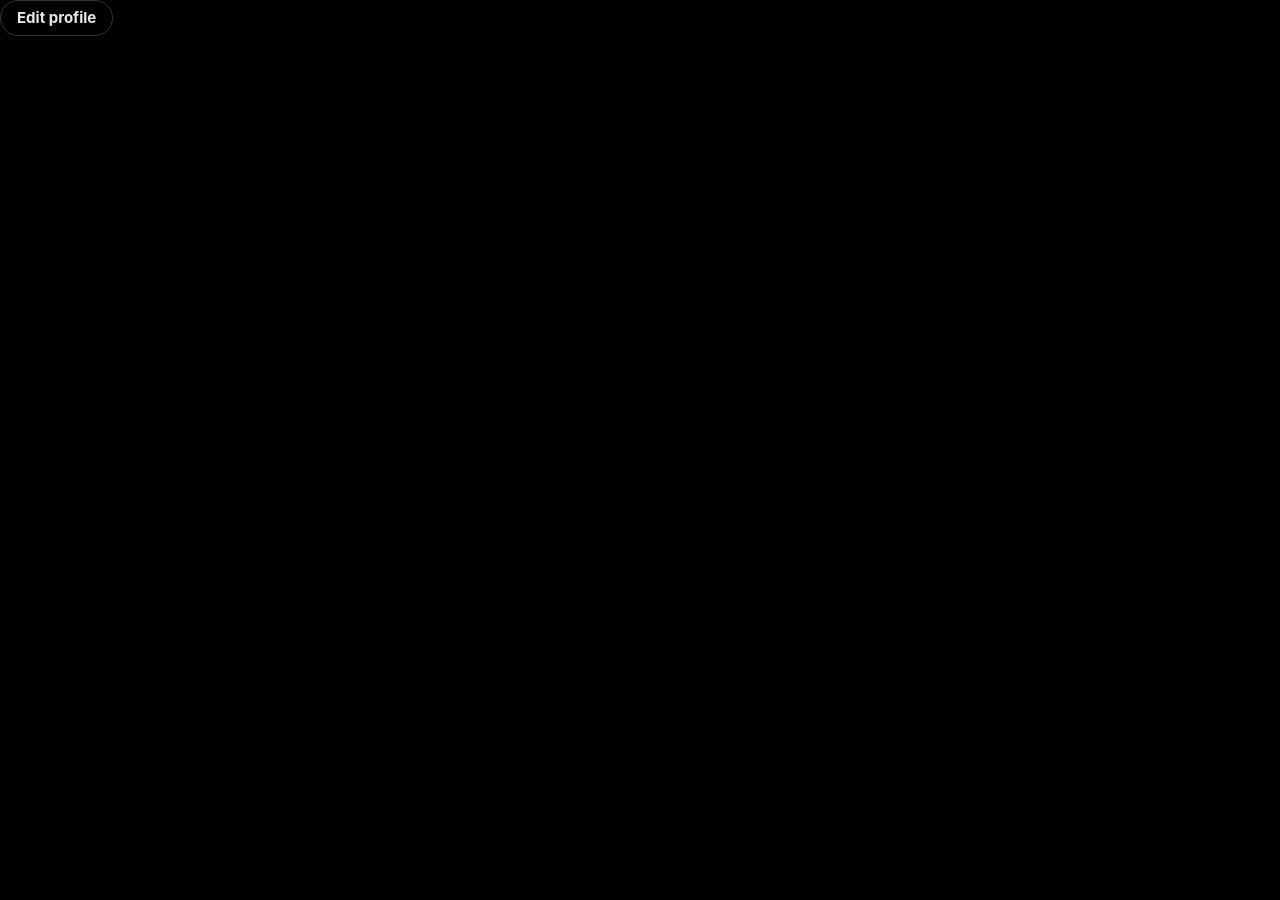
Test: EditProfileForm › closes with the close button
The width and height of the screenshot is (1280, 900).
Click the button "Edit profile" at (57,18), box [0,0,113,36]
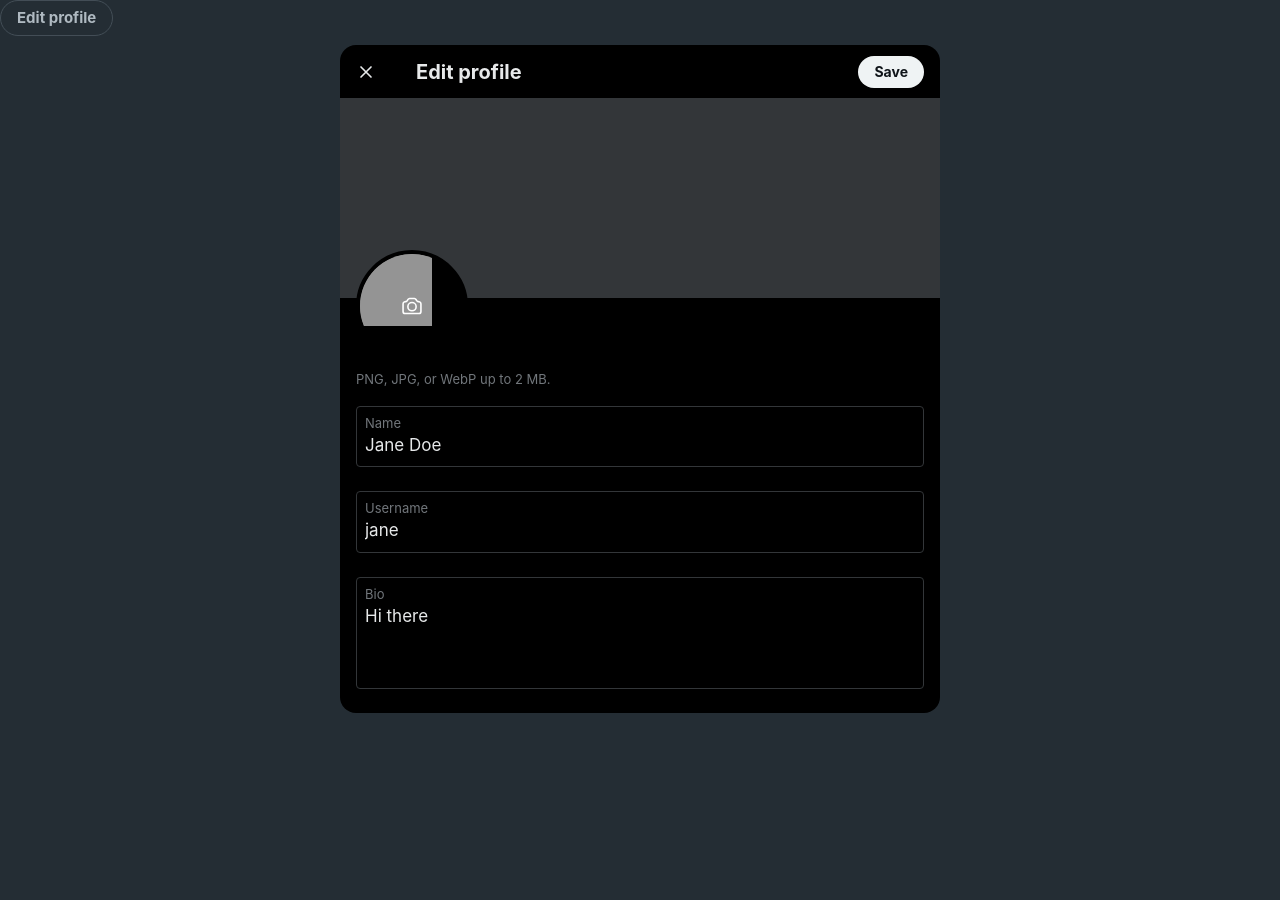
Click the button named "Close" at (366,72), box [348,54,384,90]
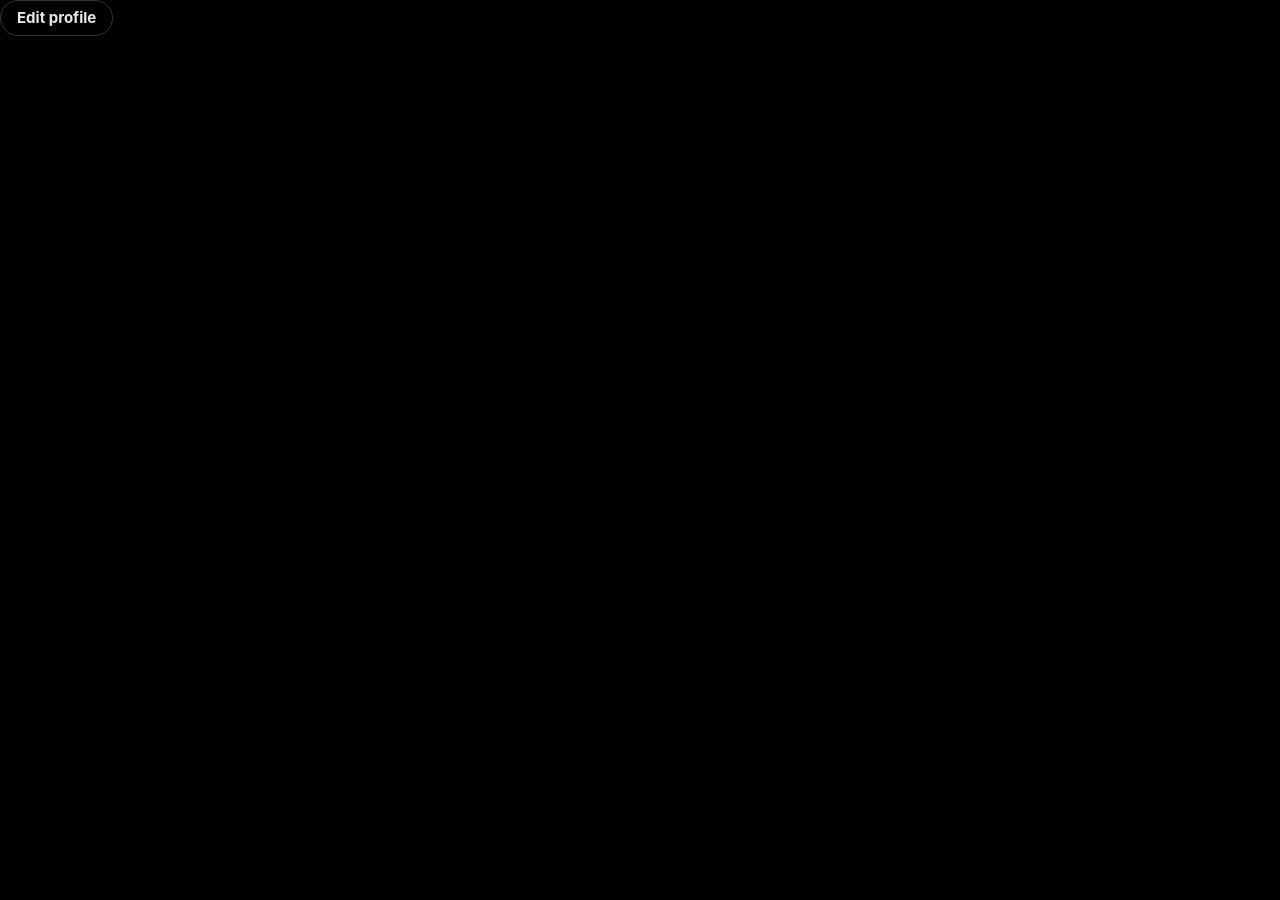
Now the dialog is gone
